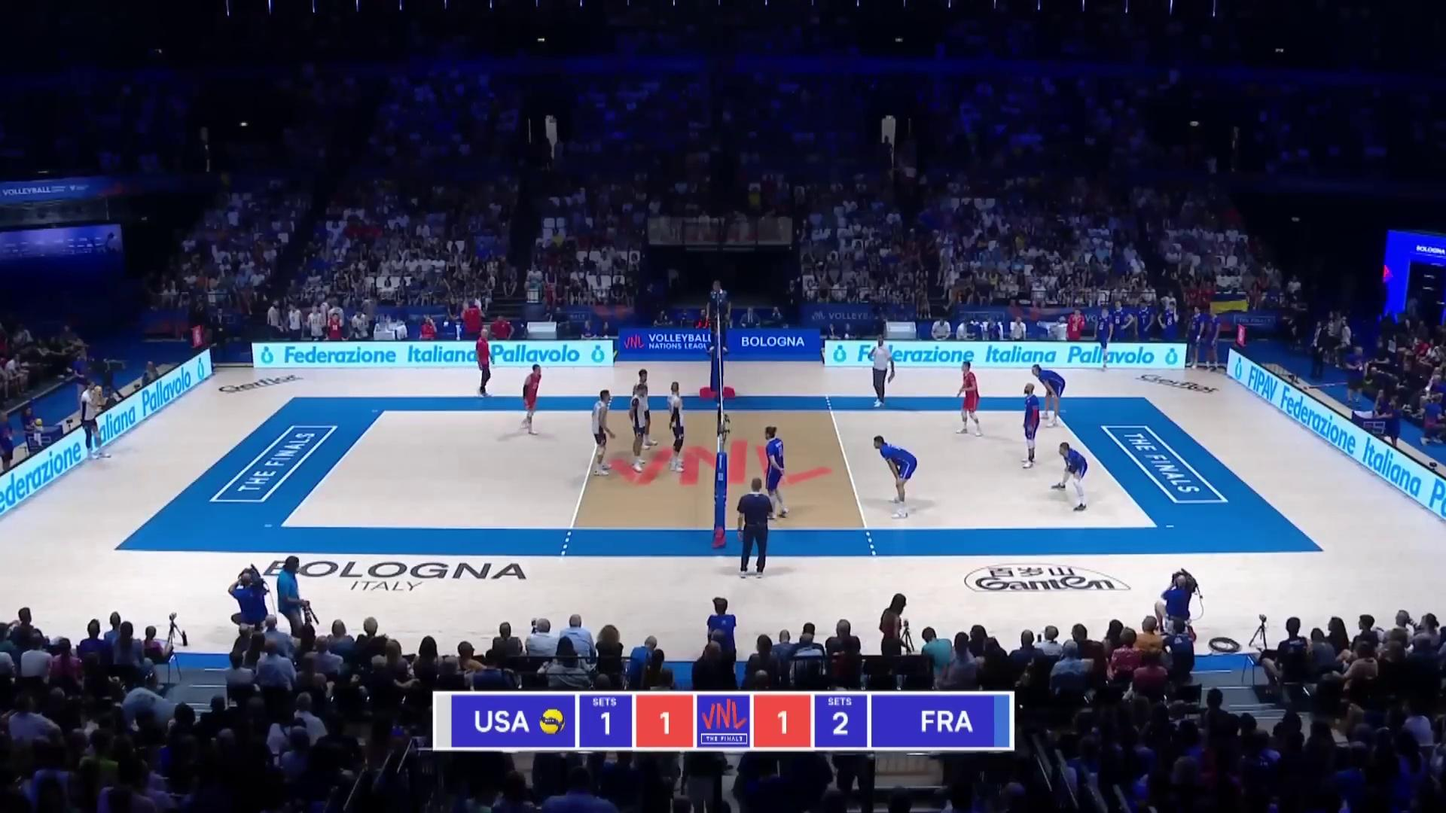player: (873, 433, 921, 518), (1051, 442, 1091, 509), (591, 387, 617, 479), (81, 380, 110, 462), (1018, 384, 1045, 470), (762, 426, 788, 515), (666, 383, 689, 474), (627, 385, 650, 472), (1033, 367, 1065, 427), (960, 359, 984, 436), (633, 369, 655, 449), (521, 362, 544, 433)
refree: (738, 478, 779, 579), (707, 282, 731, 353)
